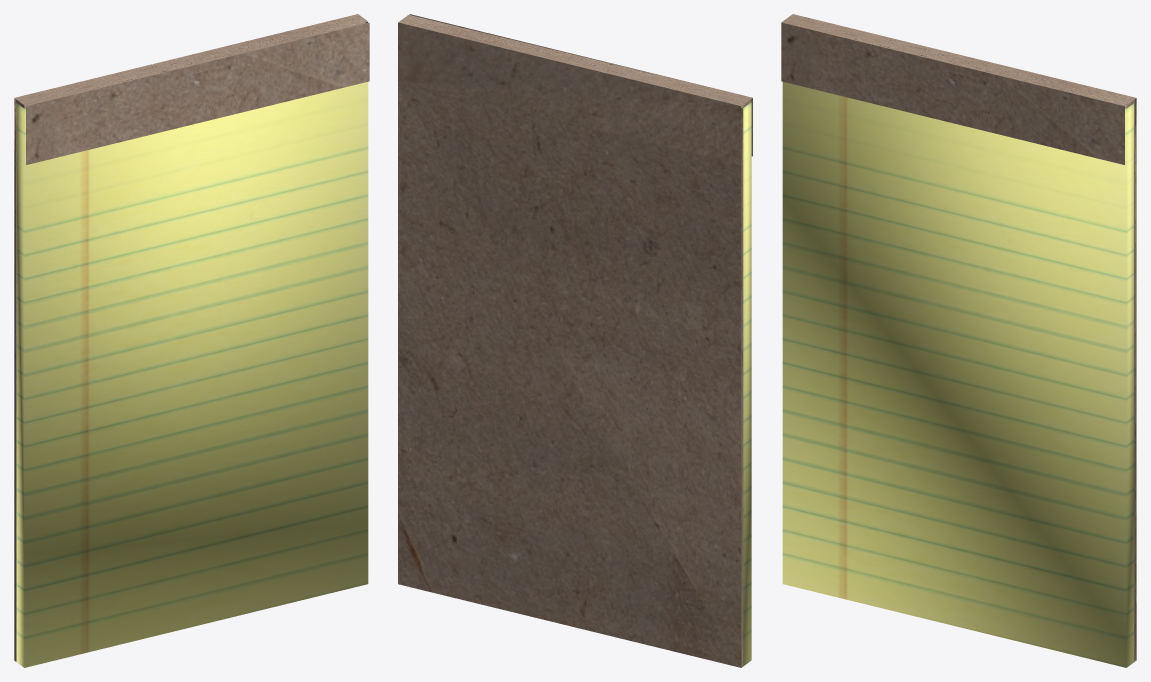
Rendered from Pad1-model.fbx.
The picture shows the model from 3 angles, left to right: view 1: azimuth 30°, elevation 25°; view 2: azimuth 150°, elevation 25°; view 3: azimuth 330°, elevation 25°; orthographic projection.
Visible parts, largest first — view 1: PAD-OF-PAP, PAD-OF-PA0; view 2: PAD-OF-PA0, PAD-OF-PAP; view 3: PAD-OF-PAP, PAD-OF-PA0.
Boxes of the visible parts, x1,y1,x2,y2 form: PAD-OF-PAP: (16,82,368,667); PAD-OF-PA0: (14,14,369,661); PAD-OF-PA0: (398,14,752,667); PAD-OF-PAP: (743,102,751,666); PAD-OF-PAP: (782,82,1134,667); PAD-OF-PA0: (781,14,1136,661).
Bounding box in the file's own units: 150 × 235 × 8.76.
2 materials, 2 textured.
